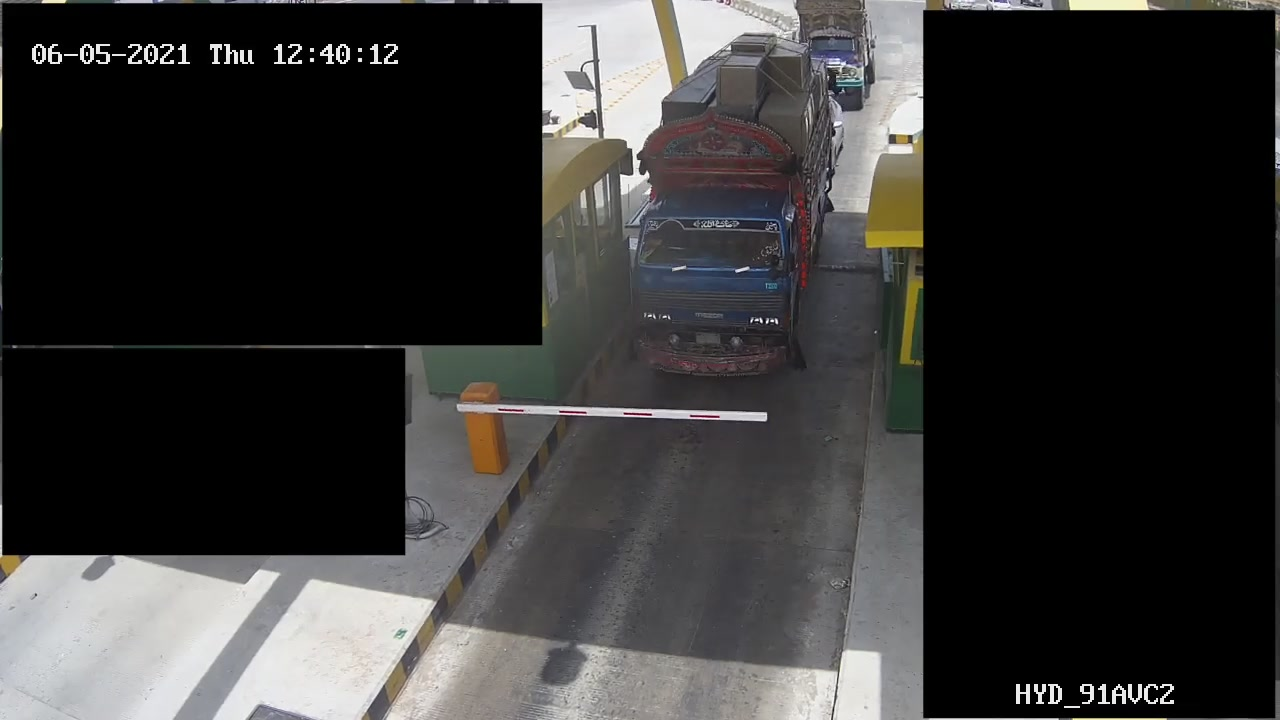F3: (631, 32, 835, 380)
